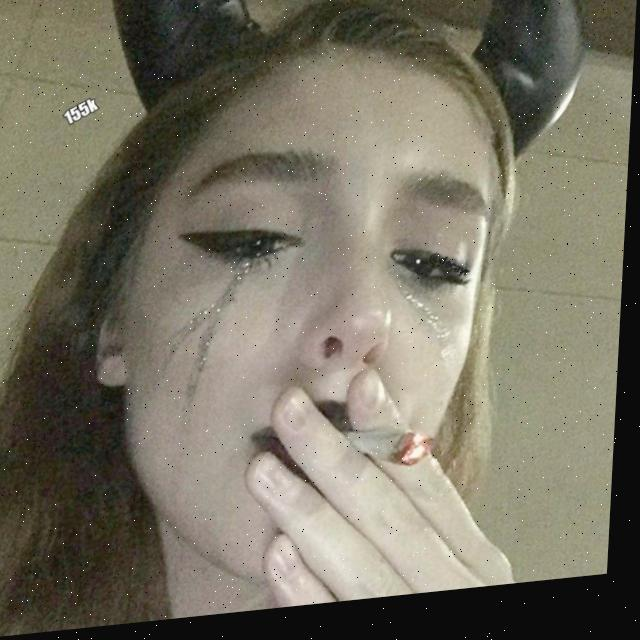cigarette: (342, 431, 442, 484)
